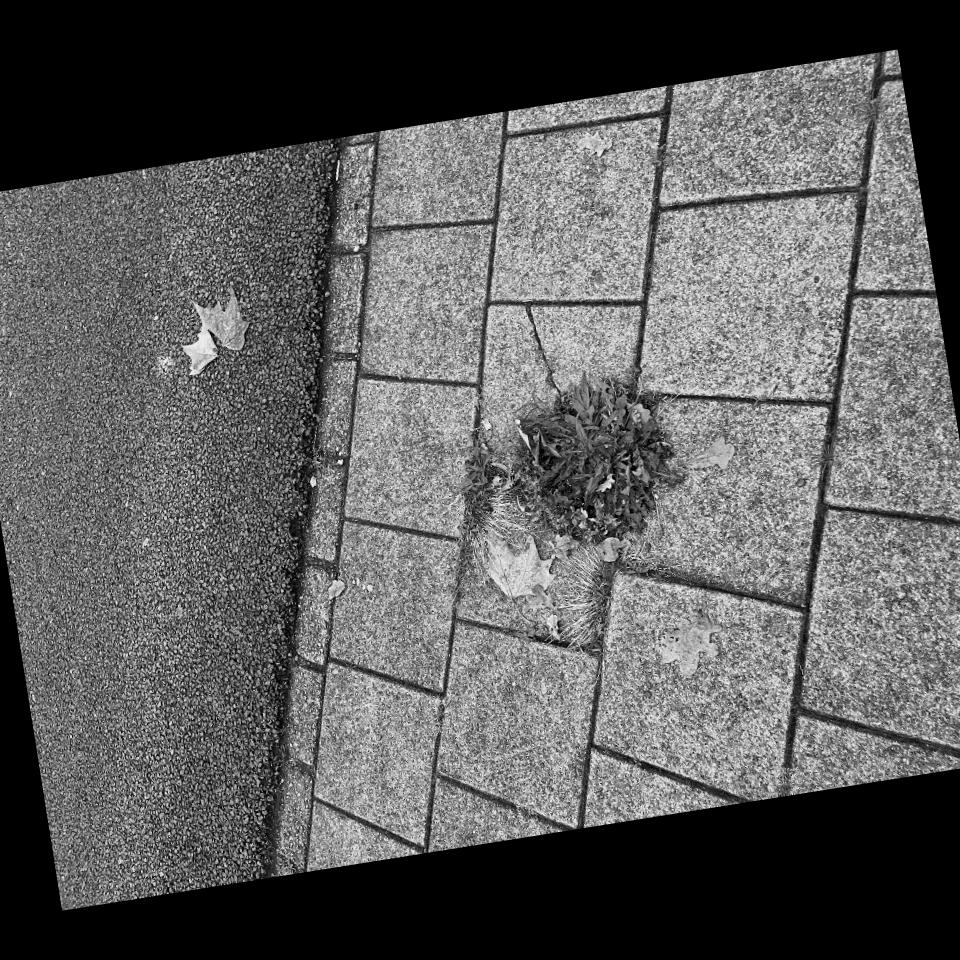weed: (329, 646, 483, 803), (263, 570, 428, 649), (323, 483, 340, 575), (691, 786, 711, 809)
